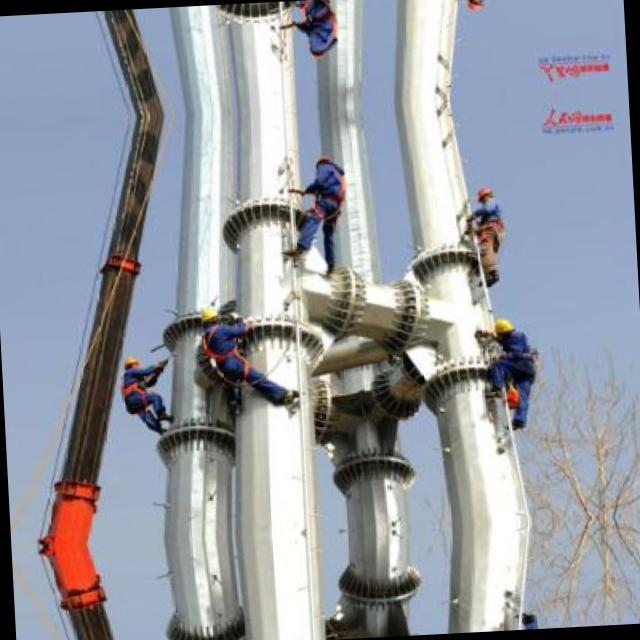helmet: (490, 312, 520, 346), (199, 298, 222, 328), (472, 181, 497, 207), (119, 350, 143, 374), (462, 0, 486, 17)
